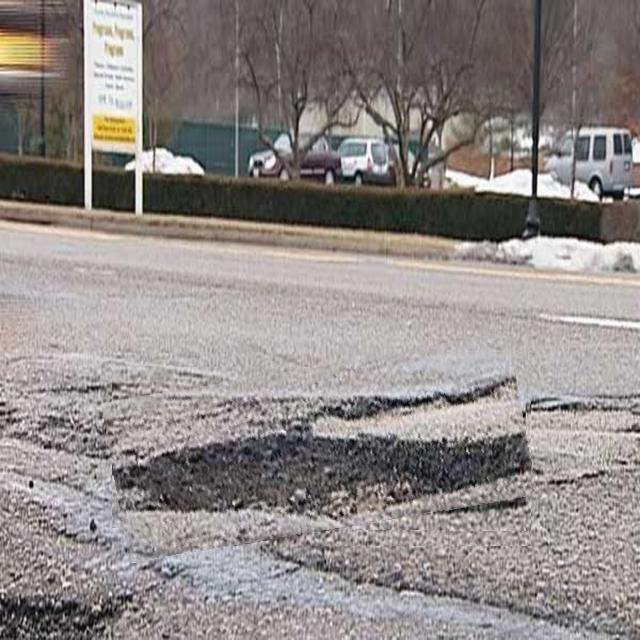Pothole: (107, 349, 531, 546)
